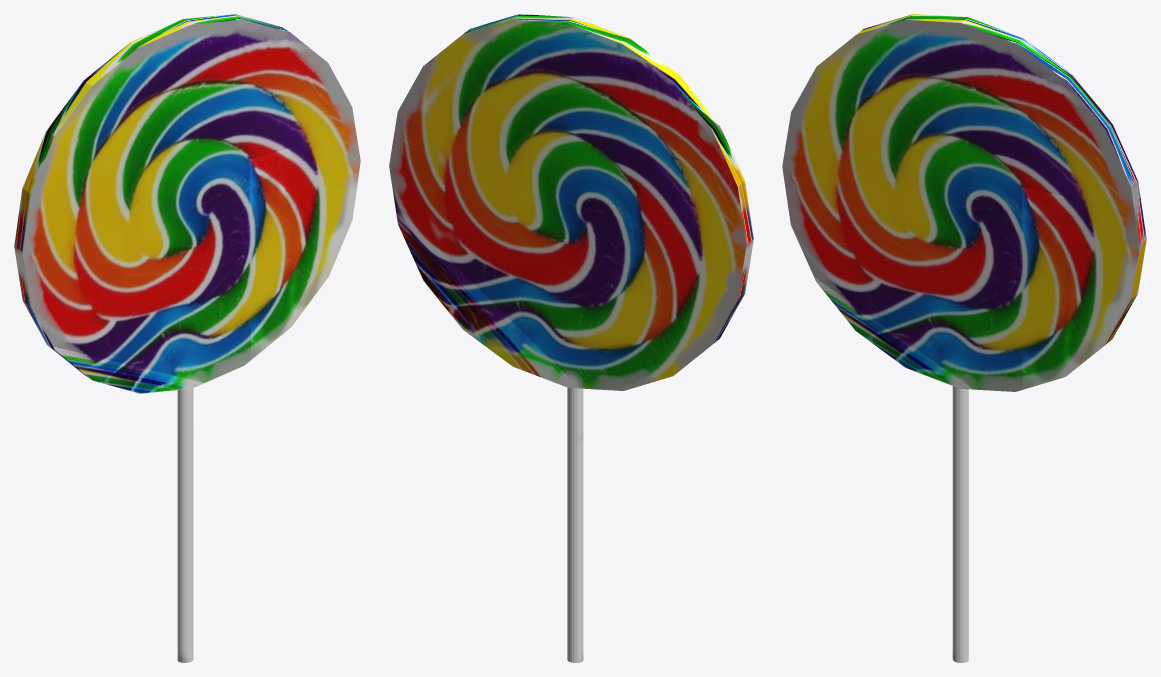
Rendered from lolly_pop.glb.
3 views of the same model, side by side, from view 1: azimuth 30°, elevation 25°; view 2: azimuth 150°, elevation 25°; view 3: azimuth 330°, elevation 25° (orthographic).
Parts seen in each view (by area): view 1: ScoobertLollyPop_HighNLow; view 2: ScoobertLollyPop_HighNLow; view 3: ScoobertLollyPop_HighNLow.
Boxes of the visible parts, box(x1,y1,x2,y2) form: ScoobertLollyPop_HighNLow: box(14, 14, 360, 662); ScoobertLollyPop_HighNLow: box(389, 14, 753, 662); ScoobertLollyPop_HighNLow: box(782, 14, 1146, 662).
Size of the model in its own units: 0.00993 by 0.0174 by 0.000815.
1 material, 1 textured.
